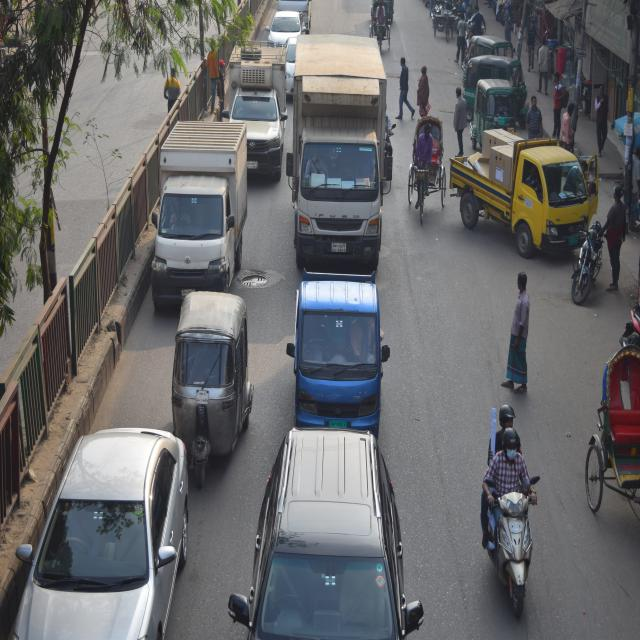car: (227, 433, 439, 640), (0, 418, 192, 640), (266, 5, 304, 43)
motorbike: (459, 415, 550, 639), (566, 212, 608, 305)
pickup-van: (289, 39, 392, 275), (148, 113, 254, 306), (450, 119, 582, 258), (289, 270, 383, 444), (228, 48, 288, 149)
